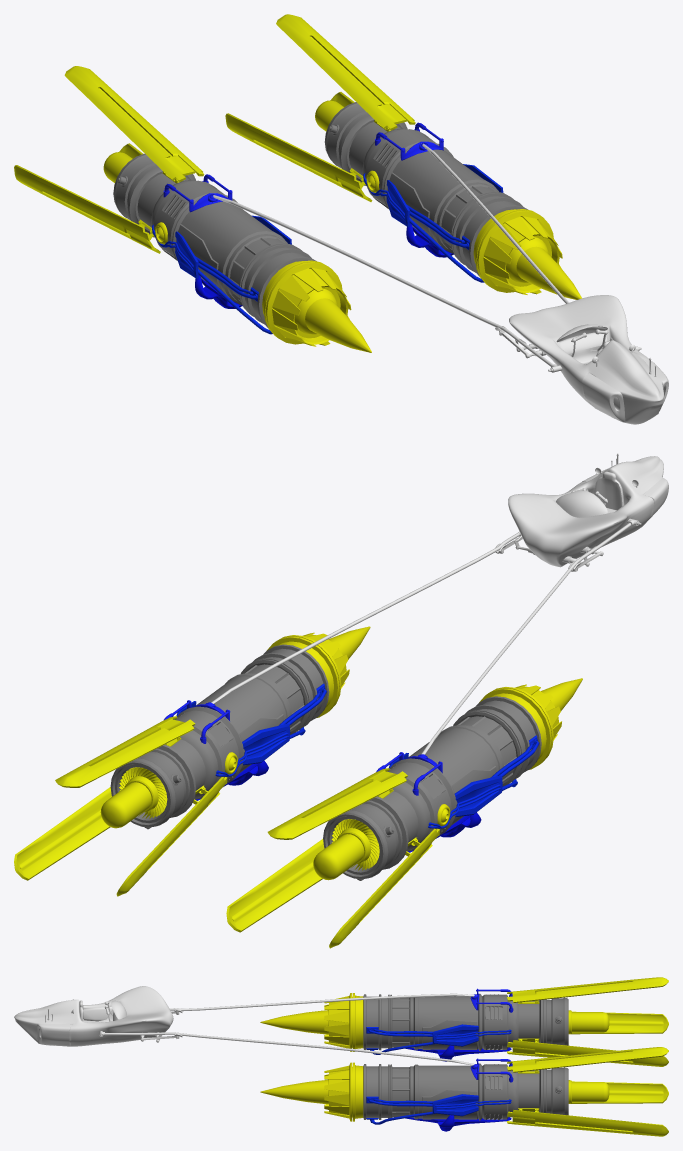
File: anakinspod.fbx
3 views of the same model, one above another, from view 1: azimuth 30°, elevation 25°; view 2: azimuth 150°, elevation 25°; view 3: azimuth 270°, elevation 25° (orthographic). The views are drawn at different scales.
Parts seen in each view (by area): view 1: Cabina_Completa, Base_low.001, Base_low, Aleron, Aleron.001, Escape.001, Escape, Disipadores.001, Disipadores, Enganche Superior, Enganche Superior.001; view 2: Base_low.001, Base_low, Cabina_Completa, Aleron, Aleron.001, Escape.001, Turbina, Turbina.022, Escape, Disipadores.001, Disipadores, Cristal; view 3: Base_low, Base_low.001, Cabina_Completa, Aleron, Aleron.001, Escape, Escape.001, Disipadores, Disipadores.001, Turbina.022, Turbina, Estabilizador (+3 smaller).
Part boxes in pixels (x1,y1,x2,y2): Cabina_Completa: (213, 143, 668, 424); Base_low.001: (113, 153, 316, 328); Base_low: (324, 102, 528, 276); Aleron: (225, 14, 415, 201); Aleron.001: (14, 66, 204, 253); Escape.001: (262, 260, 371, 352); Escape: (473, 209, 581, 299); Disipadores.001: (152, 215, 291, 334); Disipadores: (363, 164, 503, 282); Enganche Superior: (375, 122, 443, 160); Enganche Superior.001: (163, 174, 232, 212); Base_low.001: (323, 696, 541, 880); Base_low: (110, 644, 329, 829); Cabina_Completa: (211, 453, 668, 754); Aleron: (14, 716, 227, 896); Aleron.001: (226, 768, 439, 948); Escape.001: (479, 678, 582, 769); Turbina: (100, 767, 167, 828); Turbina.022: (313, 819, 379, 880); Escape: (267, 626, 370, 717); Disipadores.001: (389, 735, 539, 828); Disipadores: (176, 683, 326, 776); Cristal: (556, 490, 607, 517); Base_low: (363, 1063, 568, 1120); Base_low.001: (363, 993, 568, 1050); Cabina_Completa: (14, 986, 474, 1065); Aleron: (507, 1047, 668, 1136); Aleron.001: (507, 977, 668, 1066); Escape: (260, 1062, 363, 1121); Escape.001: (260, 993, 363, 1051); Disipadores: (366, 1094, 511, 1124); Disipadores.001: (366, 1024, 511, 1054); Turbina.022: (568, 1010, 609, 1034); Turbina: (568, 1080, 609, 1103); Estabilizador: (405, 1115, 511, 1131).
Bounding box in the file's own units: 309 × 128 × 794.
